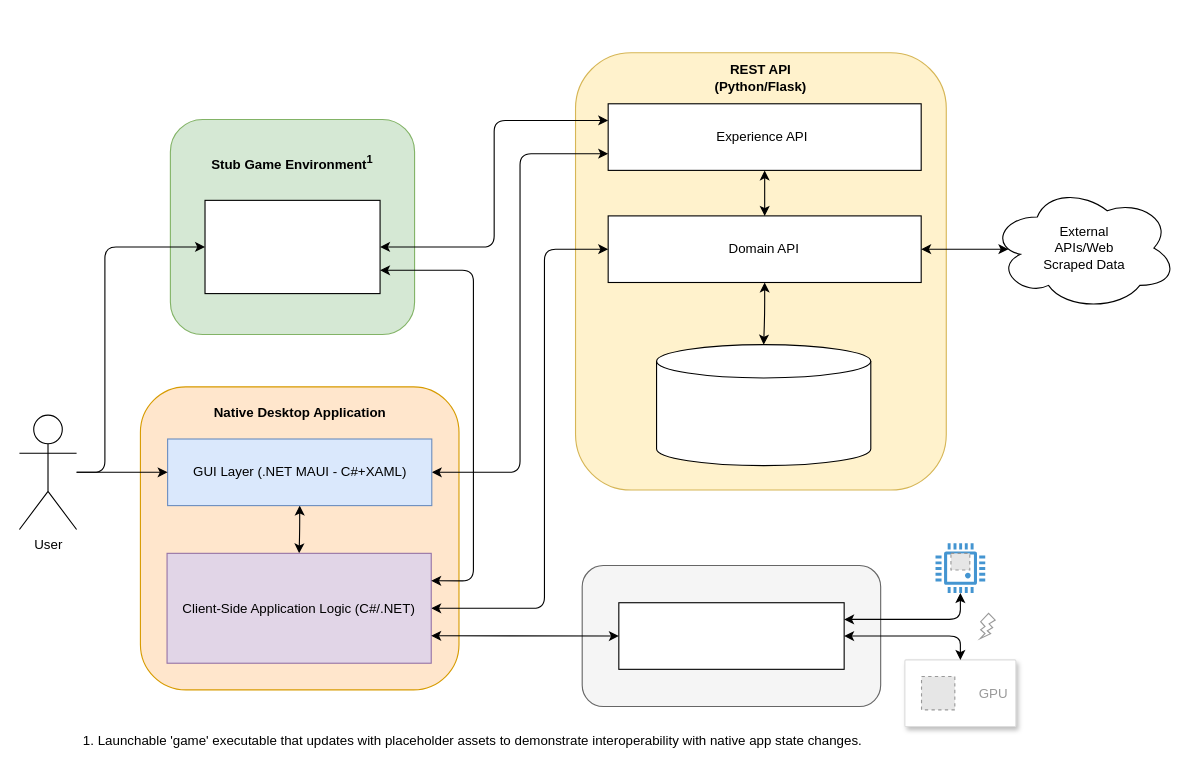
Some shapes in this 1197 by 774 pixel diagram are drawn without their labels. Grey dashed boxes stand in for pictures. Here are the shapes that lost their labels. From the top down, the centre of each, then its label:
At (x=292, y=246): "Godot Executable".
At (x=763, y=405): "Remote DB (MongoDB)".
At (x=731, y=635): "Libre Open Hardware (C#/.NET)".
